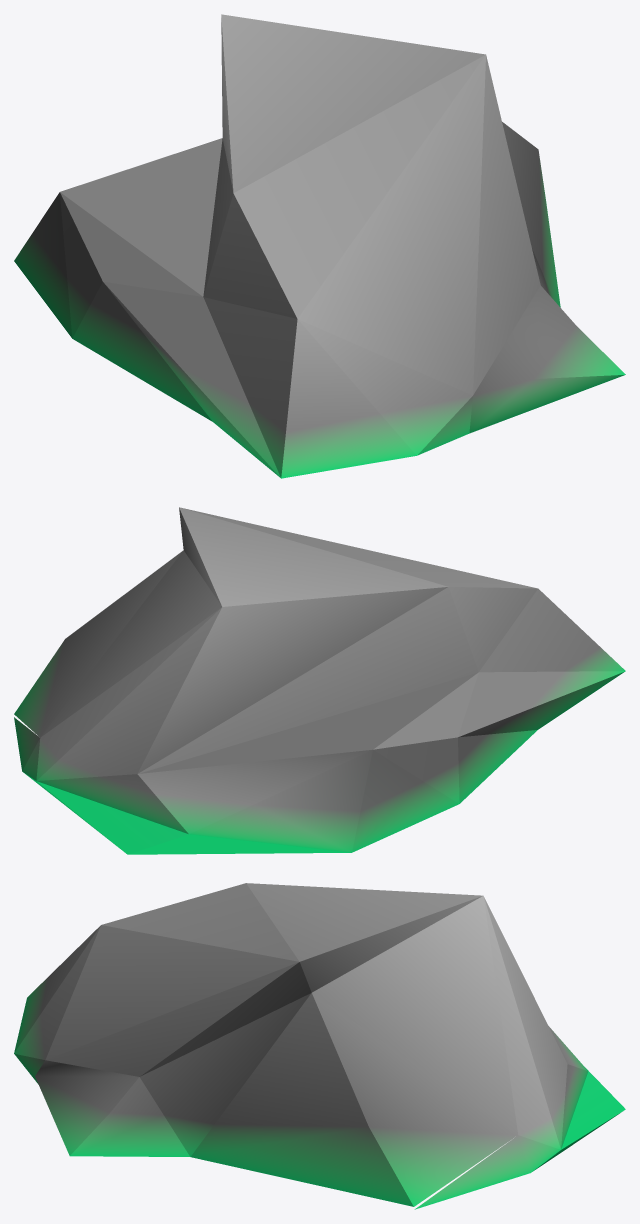
Rendered from mdl_env_1_forest_rock_a_v01.fbx.
3 renders of one model, top to bottom at view 1: azimuth 30°, elevation 25°; view 2: azimuth 150°, elevation 25°; view 3: azimuth 270°, elevation 25°, orthographic. The views are drawn at different scales.
Parts seen in each view (by area): view 1: mdl_env_1_forest_rock_a_v01.001; view 2: mdl_env_1_forest_rock_a_v01.001; view 3: mdl_env_1_forest_rock_a_v01.001.
Part boxes in pixels (x1,y1,x2,y2): mdl_env_1_forest_rock_a_v01.001: (14, 14, 625, 478); mdl_env_1_forest_rock_a_v01.001: (14, 507, 625, 854); mdl_env_1_forest_rock_a_v01.001: (14, 883, 625, 1209).
Size of the model in its own units: 1.97 by 0.8919 by 2.45.
